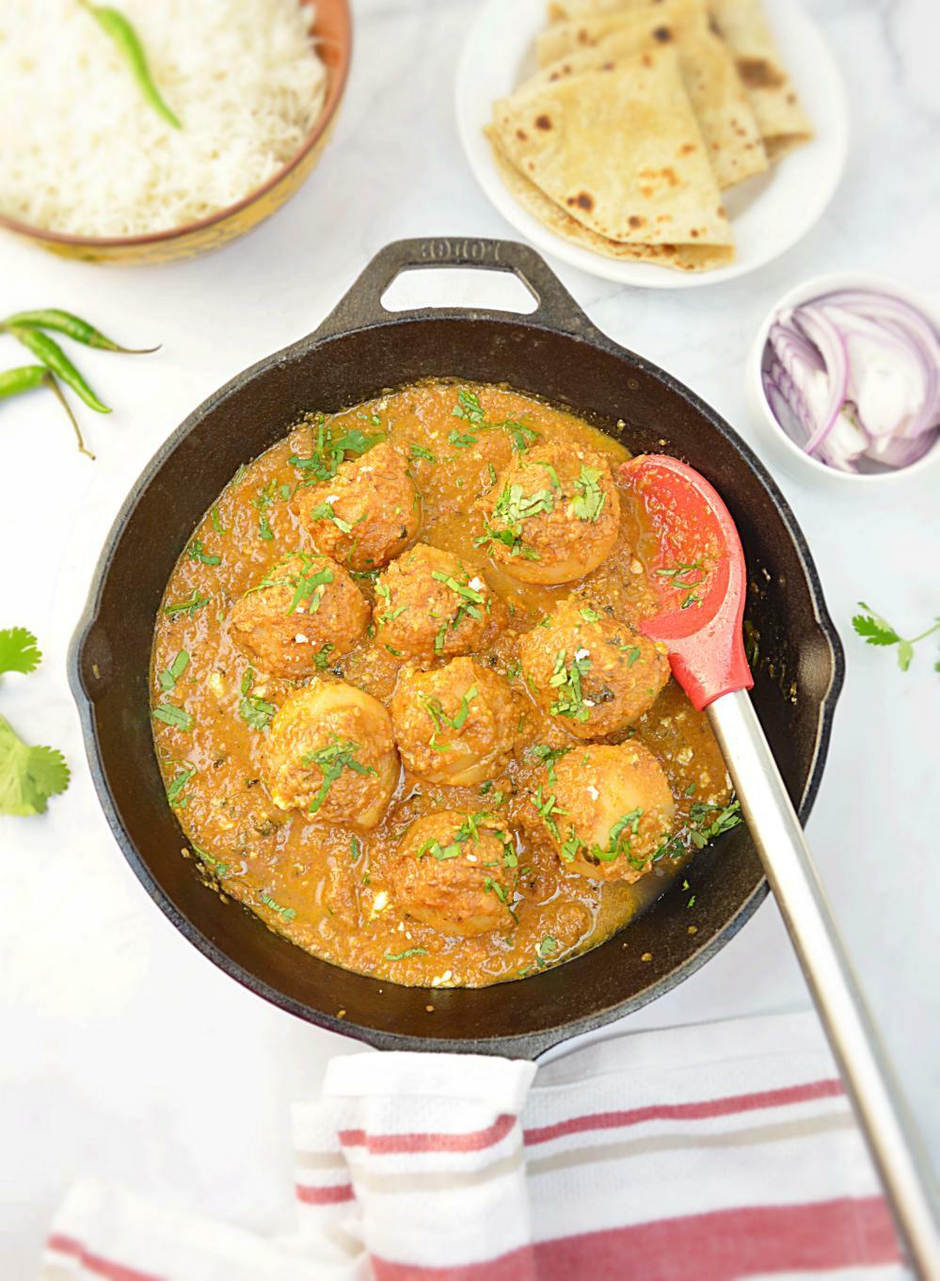DumAloo: (151, 375, 737, 991)
WhiteRice: (0, 0, 325, 238)
